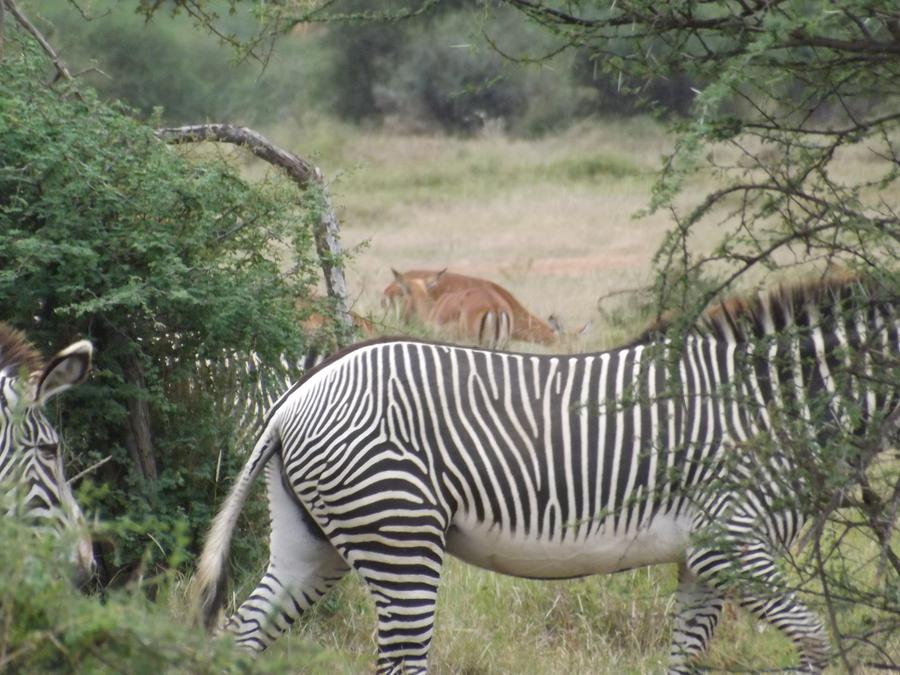zebra_grevys: (262, 327, 788, 568)
